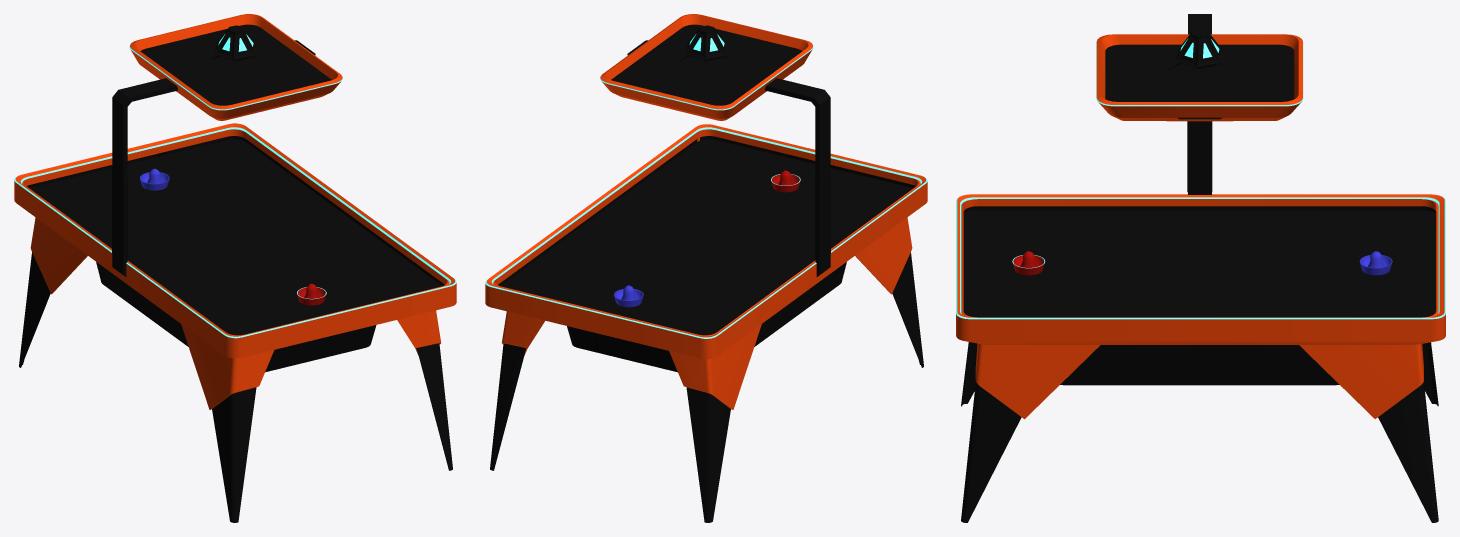
The model's file is Table_model.fbx.
The picture shows the model from 3 angles, left to right: view 1: azimuth 30°, elevation 25°; view 2: azimuth 150°, elevation 25°; view 3: azimuth 270°, elevation 25°; orthographic projection. The views are drawn at different scales.
Parts seen in each view (by area): view 1: Table, Scoreboard, Legs, Scoreboard_mount, Circle; view 2: Table, Scoreboard, Legs, Scoreboard_mount, Circle; view 3: Table, Legs, Scoreboard, Scoreboard_mount, Circle, Paddle_red, Paddle_blue.
Part boxes in pixels (x1,y1,x2,y2): Table: [14, 123, 456, 372]; Scoreboard: [112, 14, 342, 176]; Legs: [19, 217, 452, 522]; Scoreboard_mount: [112, 169, 128, 276]; Circle: [214, 25, 257, 61]; Table: [485, 124, 927, 372]; Scoreboard: [600, 14, 830, 176]; Legs: [490, 217, 923, 522]; Scoreboard_mount: [815, 169, 830, 276]; Circle: [685, 25, 728, 61]; Table: [956, 194, 1445, 385]; Legs: [961, 342, 1438, 522]; Scoreboard: [1096, 14, 1303, 121]; Scoreboard_mount: [1187, 121, 1212, 194]; Circle: [1175, 29, 1223, 69]; Paddle_red: [1012, 251, 1045, 275]; Paddle_blue: [1359, 251, 1392, 275].
Size of the model in its own units: 1.21 by 1.93 by 1.99.
